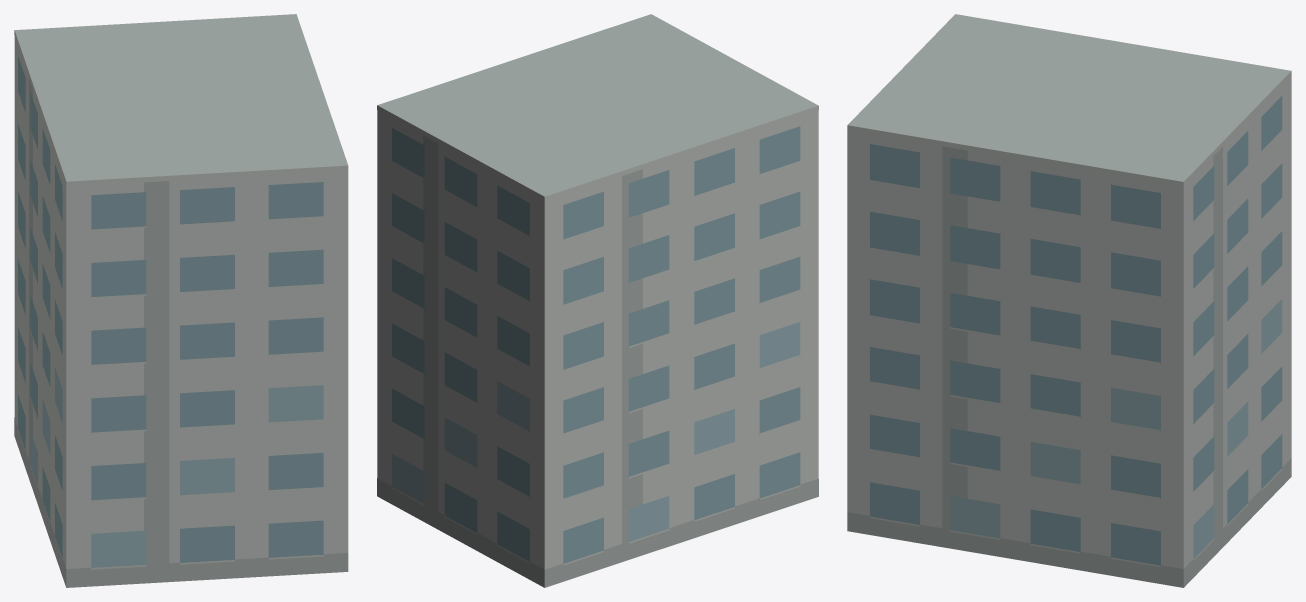
Rendered from survey-upis-32880895.glb.
The picture shows the model from 3 angles, left to right: view 1: azimuth 30°, elevation 25°; view 2: azimuth 150°, elevation 25°; view 3: azimuth 270°, elevation 25°; orthographic projection. The views are drawn at different scales.
Parts seen in each view (by area): view 1: survey-upis-32880895.tmp; view 2: survey-upis-32880895.tmp; view 3: survey-upis-32880895.tmp.
Part boxes in pixels (x1,y1,x2,y2): survey-upis-32880895.tmp: [14, 14, 348, 587]; survey-upis-32880895.tmp: [377, 14, 818, 587]; survey-upis-32880895.tmp: [847, 14, 1291, 587].
Bounding box in the file's own units: 17.31 × 19.5 × 19.34.
